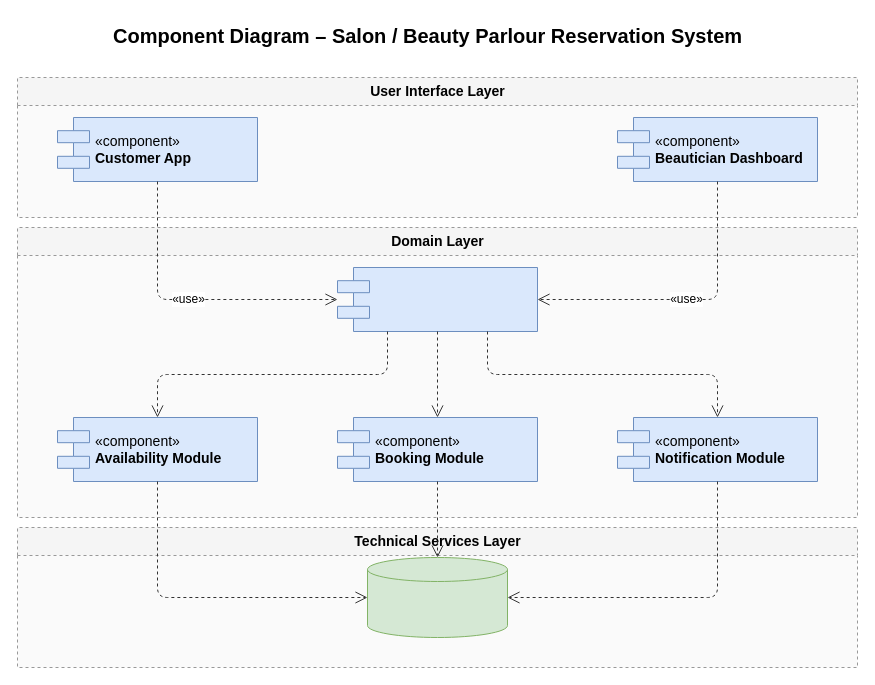
This 875x685 diagram has some shape labels left out. Each missing label, with the centre of its shape:
Appointment DB: the point at 437,597
«component» Salon / Beauty Parlour Reservation System: the point at 437,299
